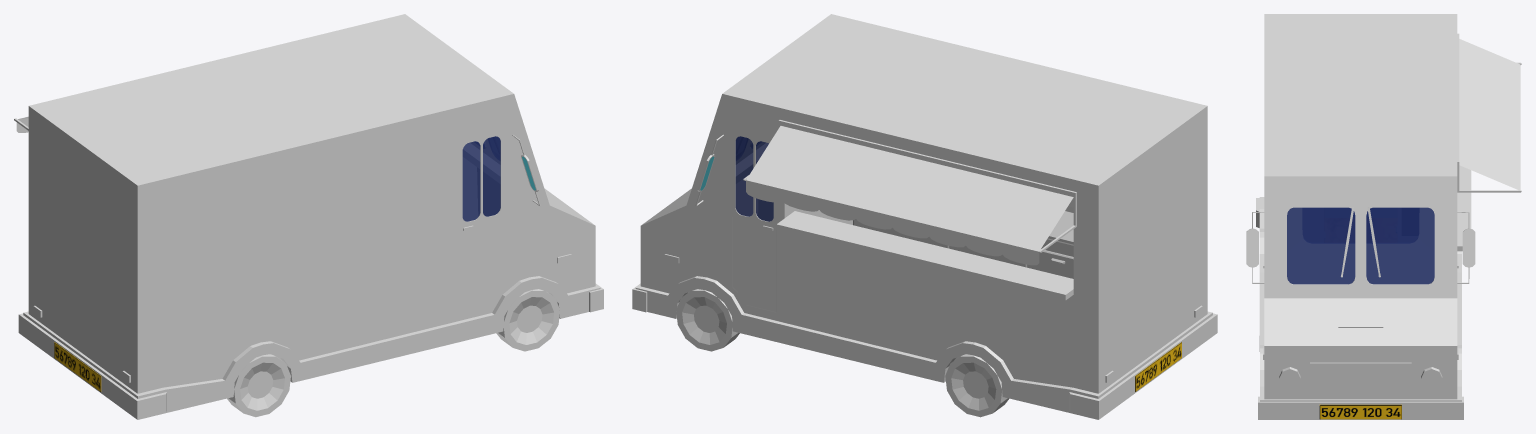
Rendered from Food_truck.fbx.
3 renders of one model, left to right at view 1: azimuth 30°, elevation 25°; view 2: azimuth 150°, elevation 25°; view 3: azimuth 270°, elevation 25°, orthographic. The views are drawn at different scales.
Visible parts, largest first — view 1: food truck base, Cylinder.001, roue, details, fenêtres, matricule; view 2: food truck base, Plane, Cylinder.001, comptoir, roue, details, Cube.004, fenêtres, KC-F600_Drawer_Front_SizeL_V3_D1C5.006, matricule, KCC-F600_Top_V3_Cabinet5.008; view 3: food truck base, fenêtres, Plane, details, food truck base.001, Cube.001, Cylinder.001, matricule, comptoir, Cube.004, Cube.005.
Part boxes in pixels (x1,y1,x2,y2): food truck base: (28,14,595,393); Cylinder.001: (23,276,600,419); roue: (227,289,559,417); details: (18,135,571,419); fenêtres: (462,136,500,221); matricule: (54,342,101,391); food truck base: (640,14,1207,393); Plane: (746,126,1073,265); Cylinder.001: (635,276,1212,419); comptoir: (776,211,1073,300); roue: (676,289,1008,417); details: (664,134,1217,419); Cube.004: (743,120,1076,252); fenêtres: (735,136,773,221); KC-F600_Drawer_Front_SizeL_V3_D1C5.006: (1027,250,1073,278); matricule: (1135,342,1181,391); KCC-F600_Top_V3_Cabinet5.008: (1047,211,1073,245); food truck base: (1264,14,1457,399); fenêtres: (1287,207,1434,284); Plane: (1459,39,1520,190); details: (1246,198,1475,397); food truck base.001: (1303,208,1418,242); Cube.001: (1258,396,1463,419); Cylinder.001: (1259,197,1461,401); matricule: (1319,404,1401,419); comptoir: (1457,165,1471,251); Cube.004: (1457,33,1521,192); Cube.005: (1340,207,1380,277).
Bounding box in the file's own units: 1142 × 599 × 655.
